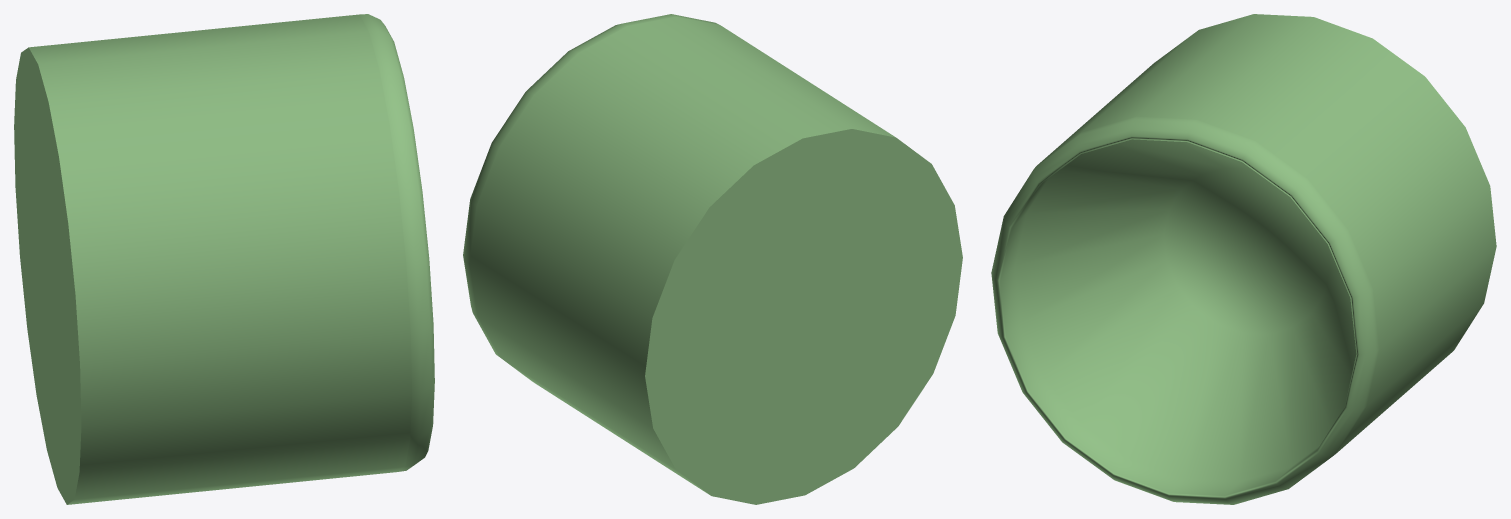
File: BR5_8shapes_Round_Classic_Metal.001 2.glb
3 renders of one model, left to right at view 1: azimuth 30°, elevation 25°; view 2: azimuth 150°, elevation 25°; view 3: azimuth 270°, elevation 25°, orthographic. The views are drawn at different scales.
Parts seen in each view (by area): view 1: BR5_8shapes_Round_Classic_Metal.001; view 2: BR5_8shapes_Round_Classic_Metal.001; view 3: BR5_8shapes_Round_Classic_Metal.001.
Boxes of the visible parts, x1,y1,x2,y2 form: BR5_8shapes_Round_Classic_Metal.001: [14, 14, 434, 504]; BR5_8shapes_Round_Classic_Metal.001: [463, 14, 962, 504]; BR5_8shapes_Round_Classic_Metal.001: [991, 14, 1496, 504].
Size of the model in its own units: 0.553 by 0.5317 by 0.6237.
